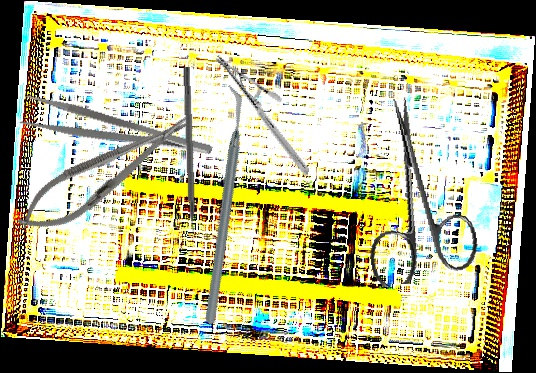Chopper: (118, 82, 326, 326)
Dressing Forceps: (18, 91, 215, 175)
Hook Surgical: (181, 66, 198, 249)
Iris Scissors: (343, 89, 483, 289)
Needle Holder: (8, 100, 202, 247), (187, 53, 338, 177)
